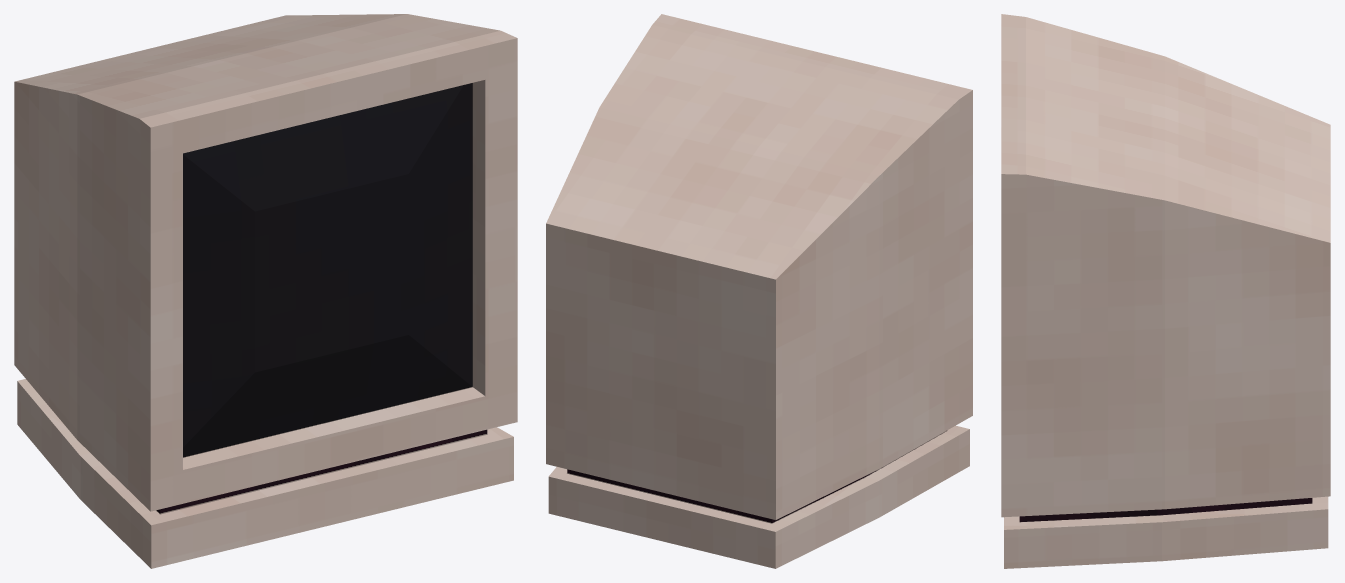
The model's file is crt.fbx.
The picture shows the model from 3 angles, left to right: view 1: azimuth 30°, elevation 25°; view 2: azimuth 150°, elevation 25°; view 3: azimuth 270°, elevation 25°; orthographic projection. The views are drawn at different scales.
Visible parts, largest first — view 1: crt monitor; view 2: crt monitor; view 3: crt monitor.
Boxes of the visible parts, box(x1,y1,x2,y2) form: crt monitor: box(14, 14, 517, 568); crt monitor: box(546, 14, 972, 568); crt monitor: box(1001, 14, 1330, 568).
Bounding box in the file's own units: 52 × 59.97 × 45.2.
1 material, 1 textured.
